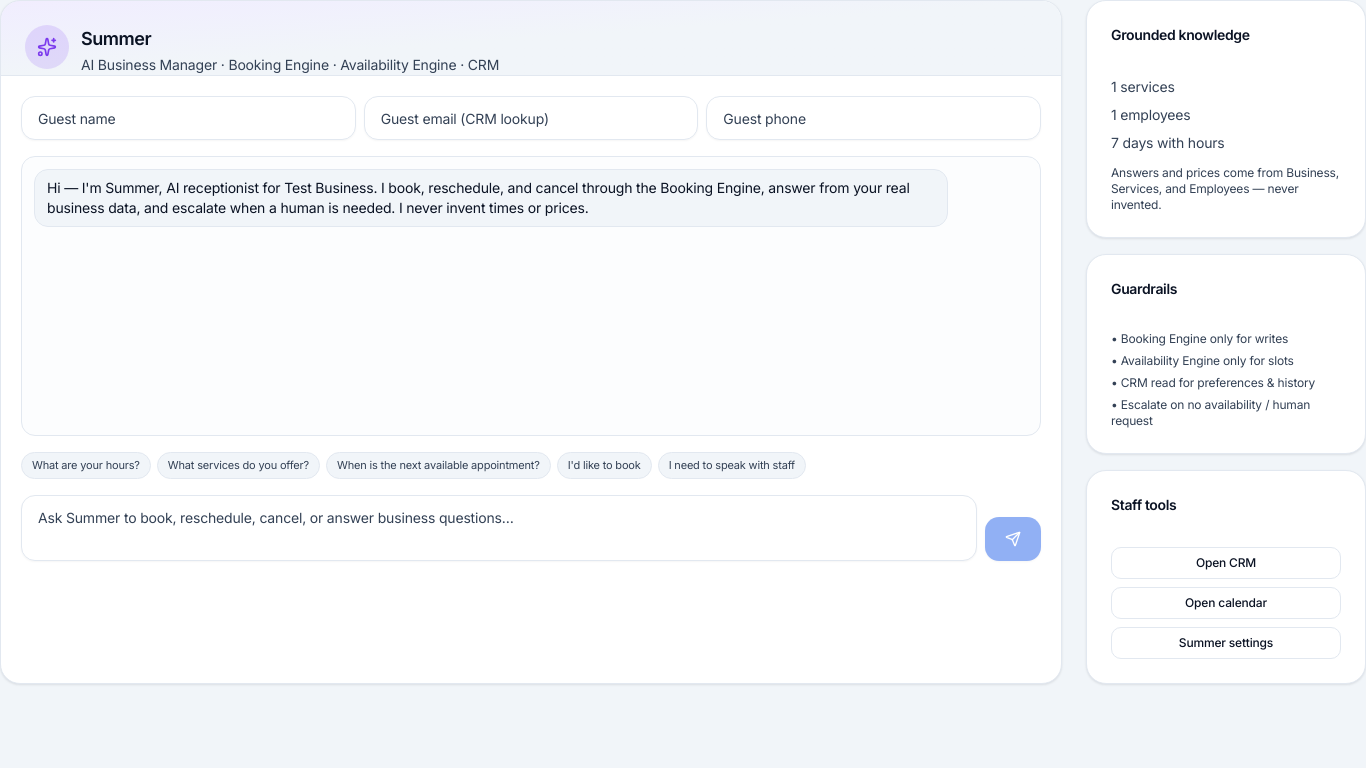
Test: Summer Location disclosure › shows the supplied Location before booking and independently in the successful confirmation
Type "Book a consultation" into the text box named "Message Summer" at [499, 528], box [21,494,977,560]
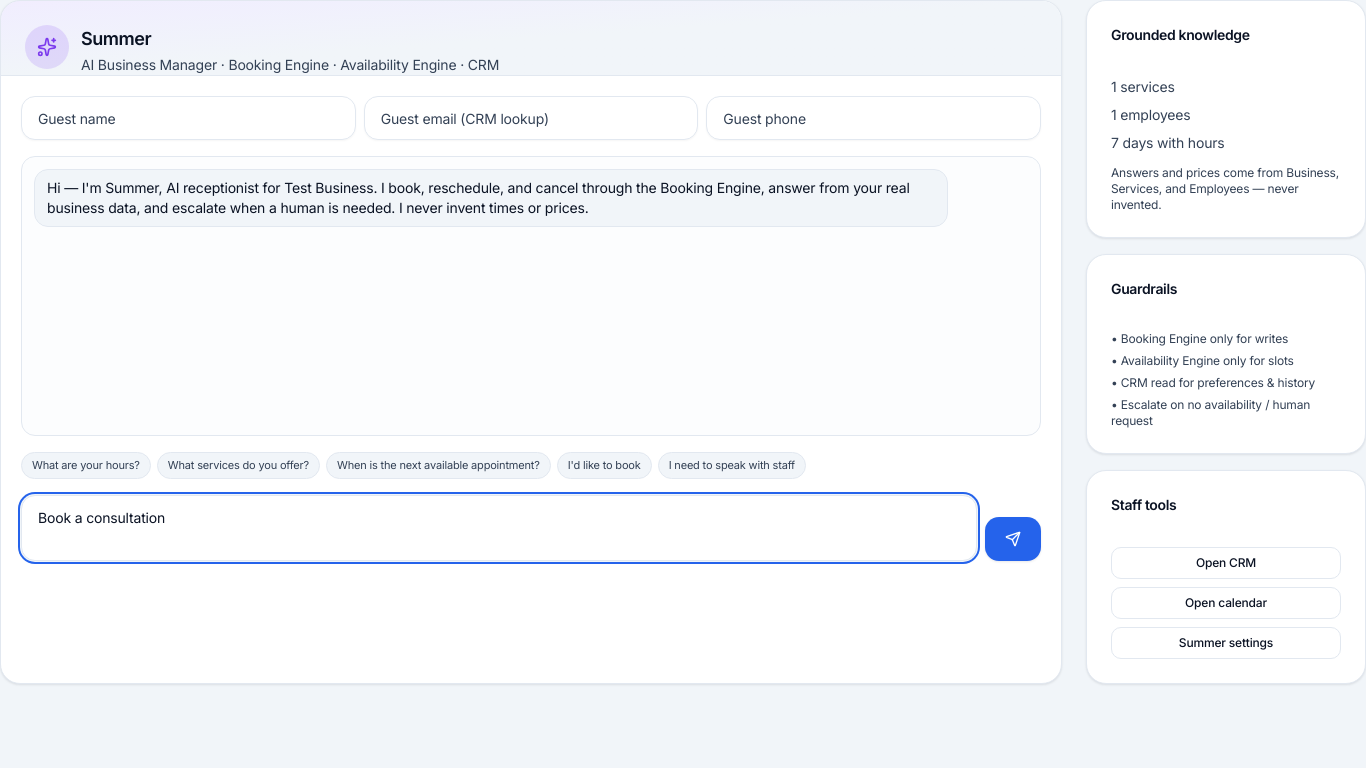
Click the button named "Send message" at [1013, 538], box [985,516,1041,560]
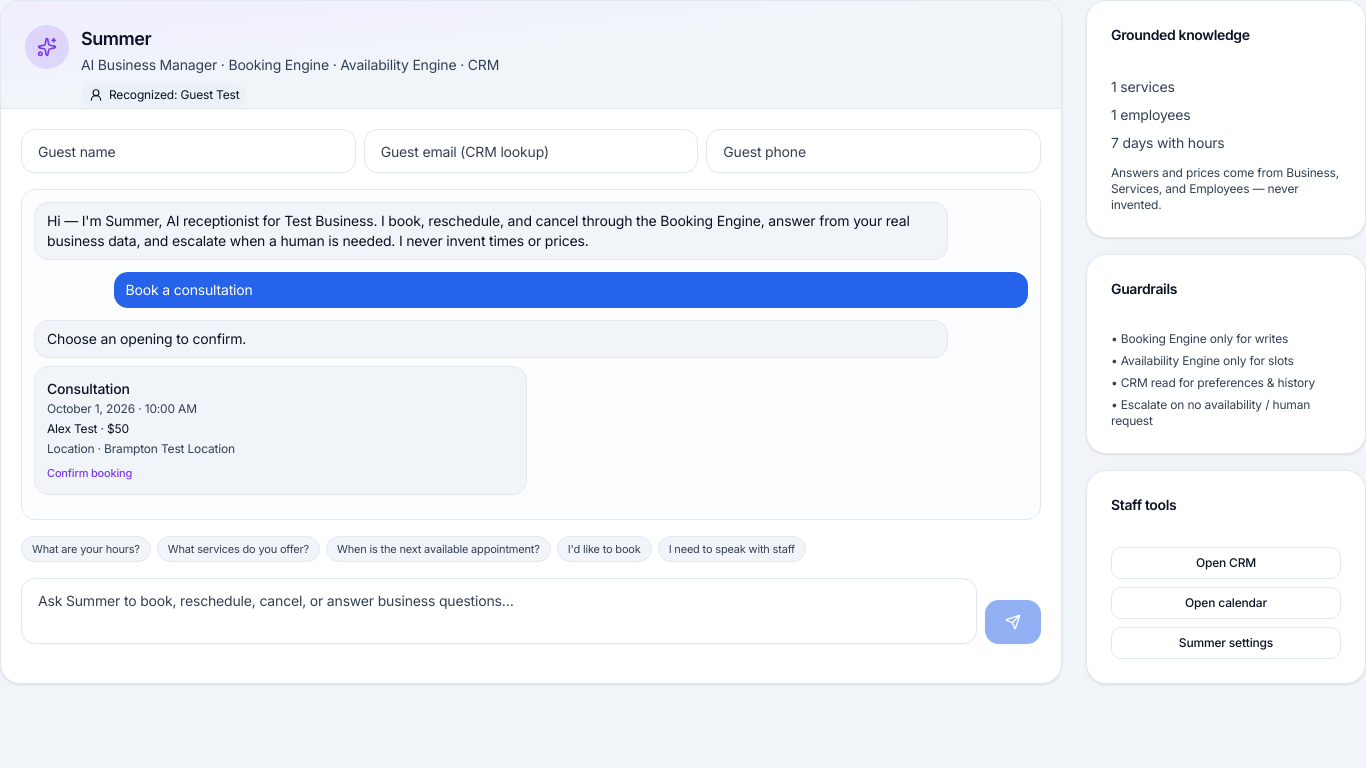
Now the text "Location · Brampton Test Location" is shown, box [47,441,235,456]
Now the text "Consultation" is shown, box [47,380,130,397]
Now the text "Alex Test · $50" is shown, box [47,421,129,436]
Click the button named "Confirm booking" at [88, 388], box [34,366,527,494]
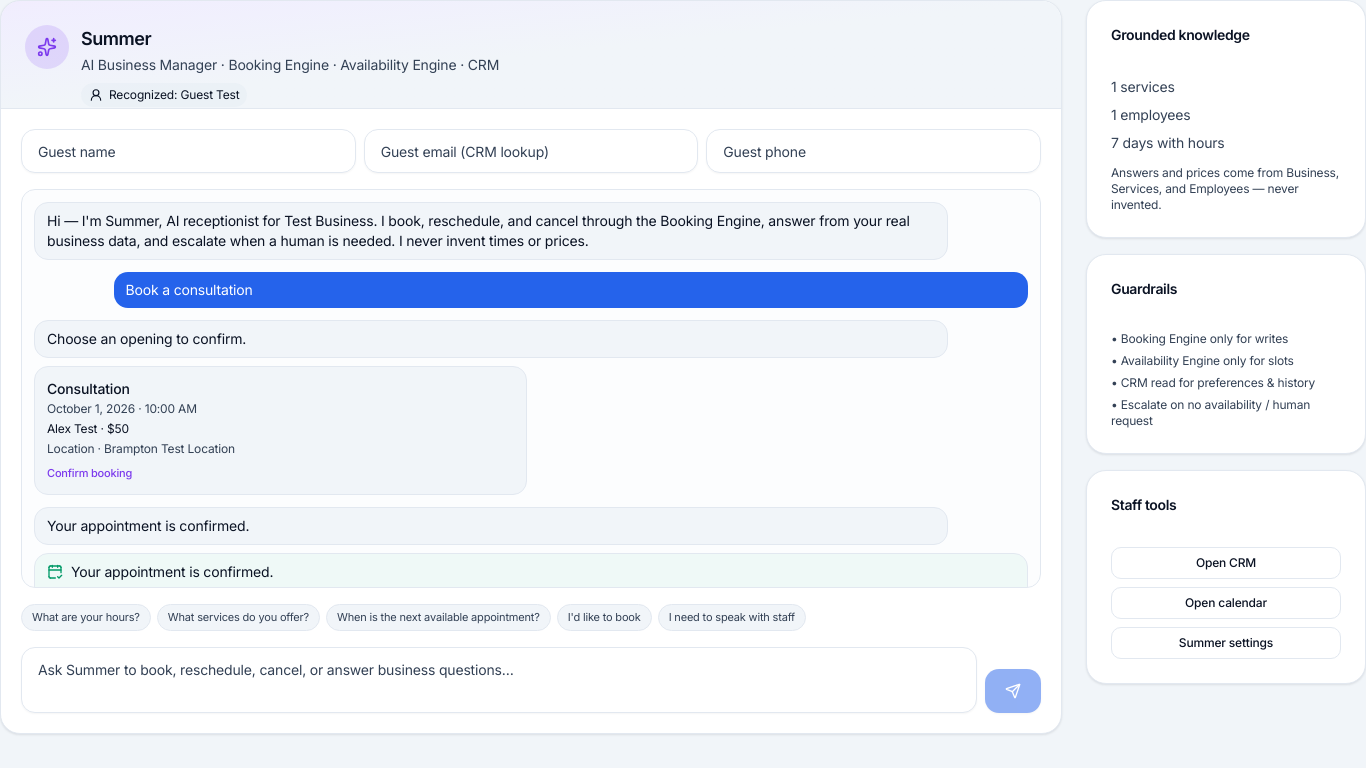
Expected: the text "Your appointment is confirmed." does not show "Brampton Test Location"
Now the 2nd text "Your appointment is confirmed." is shown, box [71,562,273,582]
